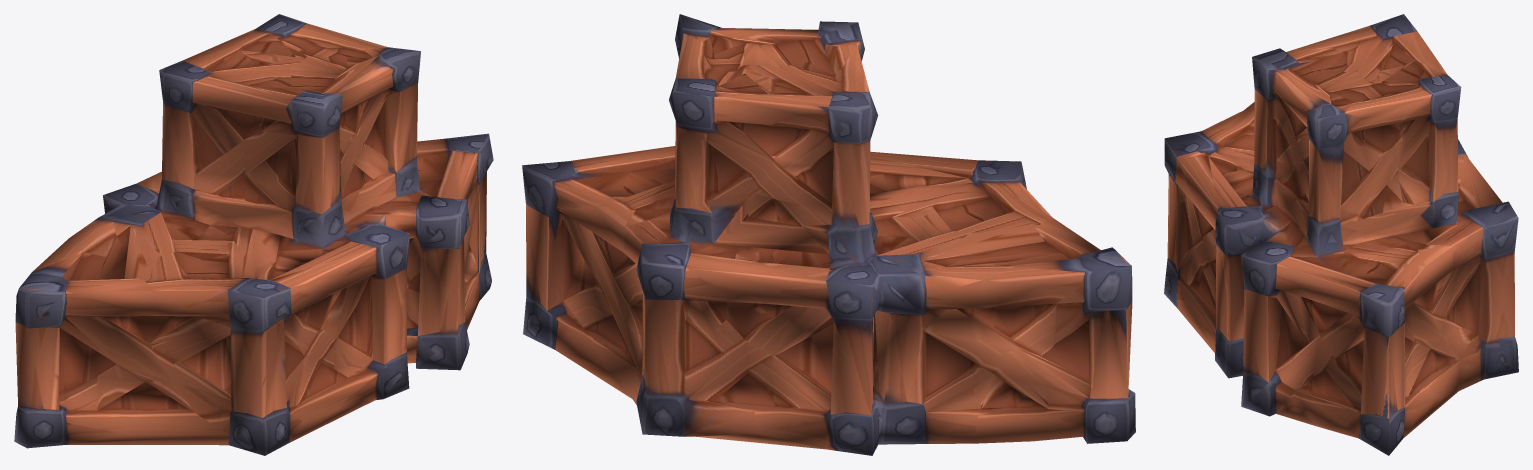
File: crate_stack.fbx
3 views of the same model, side by side, from view 1: azimuth 30°, elevation 25°; view 2: azimuth 150°, elevation 25°; view 3: azimuth 270°, elevation 25° (orthographic). The views are drawn at different scales.
Parts seen in each view (by area): view 1: crate_stack; view 2: crate_stack; view 3: crate_stack.
Boxes of the visible parts, left/top/right/bottom form: crate_stack: left=14, top=14, right=493, bottom=455; crate_stack: left=522, top=14, right=1135, bottom=455; crate_stack: left=1164, top=14, right=1518, bottom=455.
Bounding box in the file's own units: 1.4 × 0.7639 × 0.8531.
1 material, 1 textured.
